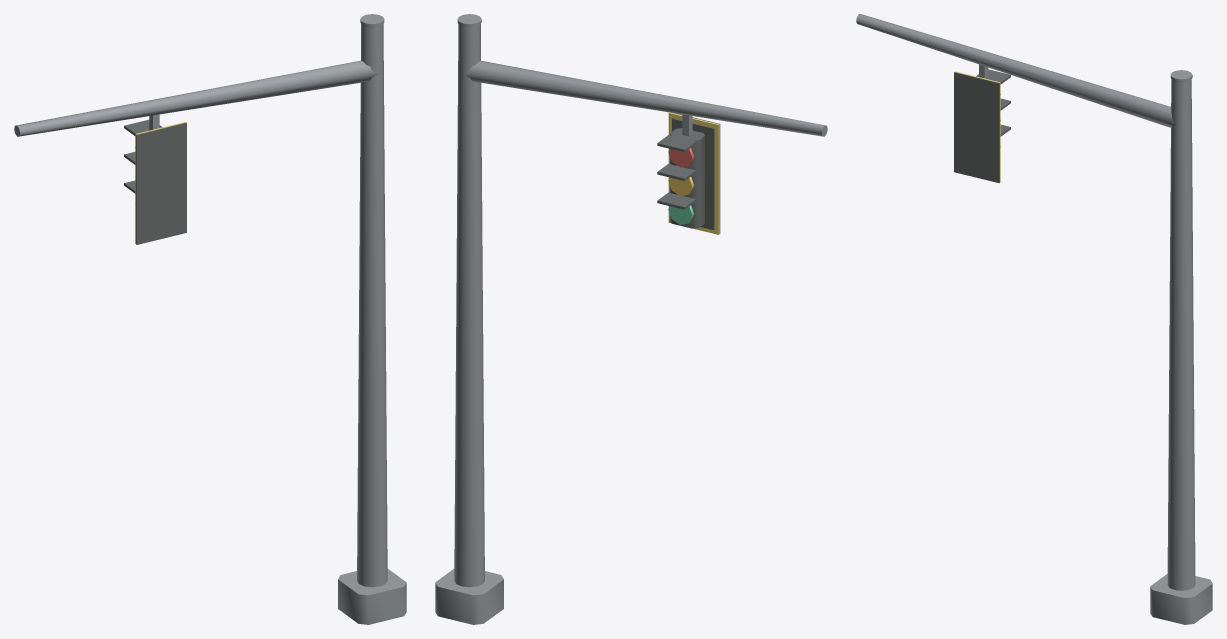
The model's file is signal-1.glb.
3 views of the same model, side by side, from view 1: azimuth 30°, elevation 25°; view 2: azimuth 150°, elevation 25°; view 3: azimuth 330°, elevation 25° (orthographic). The views are drawn at different scales.
Visible parts, largest first — view 1: signal-1; view 2: signal-1; view 3: signal-1.
Boxes of the visible parts, box(x1,y1,x2,y2) form: signal-1: box(14, 14, 406, 624); signal-1: box(435, 14, 827, 624); signal-1: box(856, 14, 1212, 624).
Bounding box in the file's own units: 0.6714 × 1 × 0.0936.
